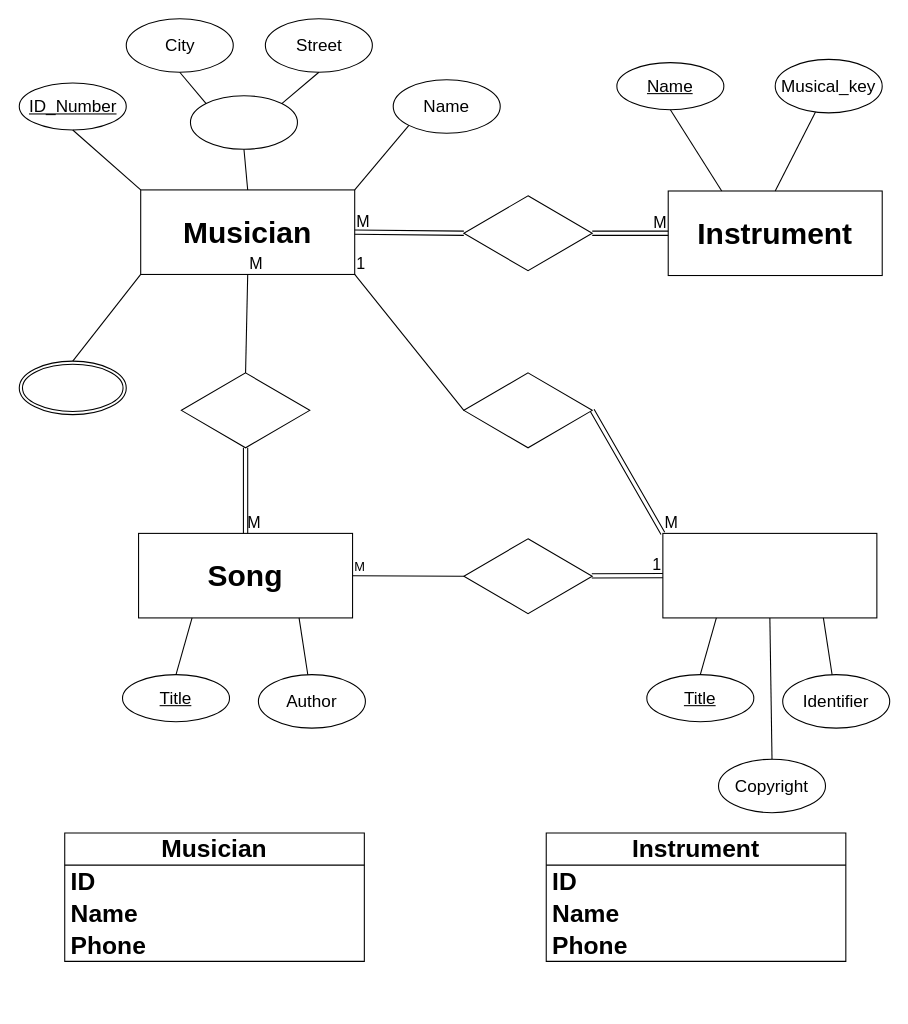
This 908x1024 diagram has some shape labels left out. Each missing label, with the centre of its shape:
"Address" belongs at point (243, 122).
"Album" belongs at point (769, 575).
"Has" belongs at point (527, 576).
"Perform" belongs at point (245, 410).
"Phone_Num" belongs at point (72, 387).
"Play" belongs at point (527, 233).
"Produce" belongs at point (527, 410).
